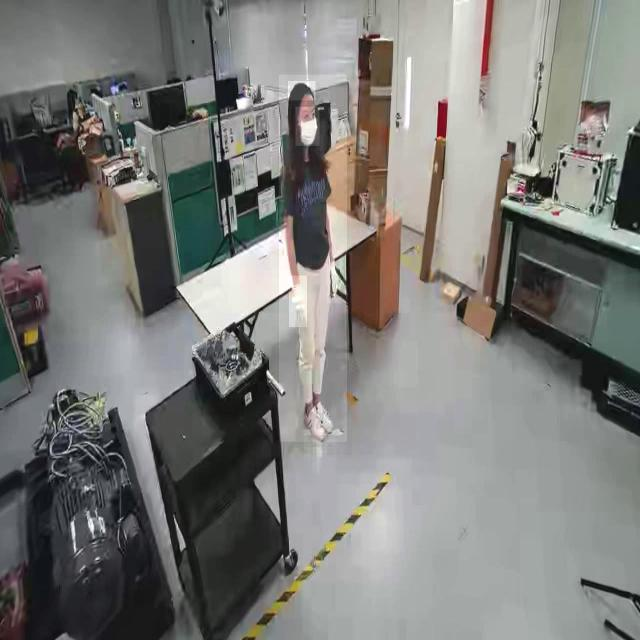face_mask: (296, 106, 320, 146)
hand_glove: (289, 276, 307, 328), (326, 260, 342, 304)
head_nohelmet: (288, 81, 316, 101)
person: (279, 75, 347, 442)
shoes: (301, 400, 328, 443), (310, 398, 335, 436)
